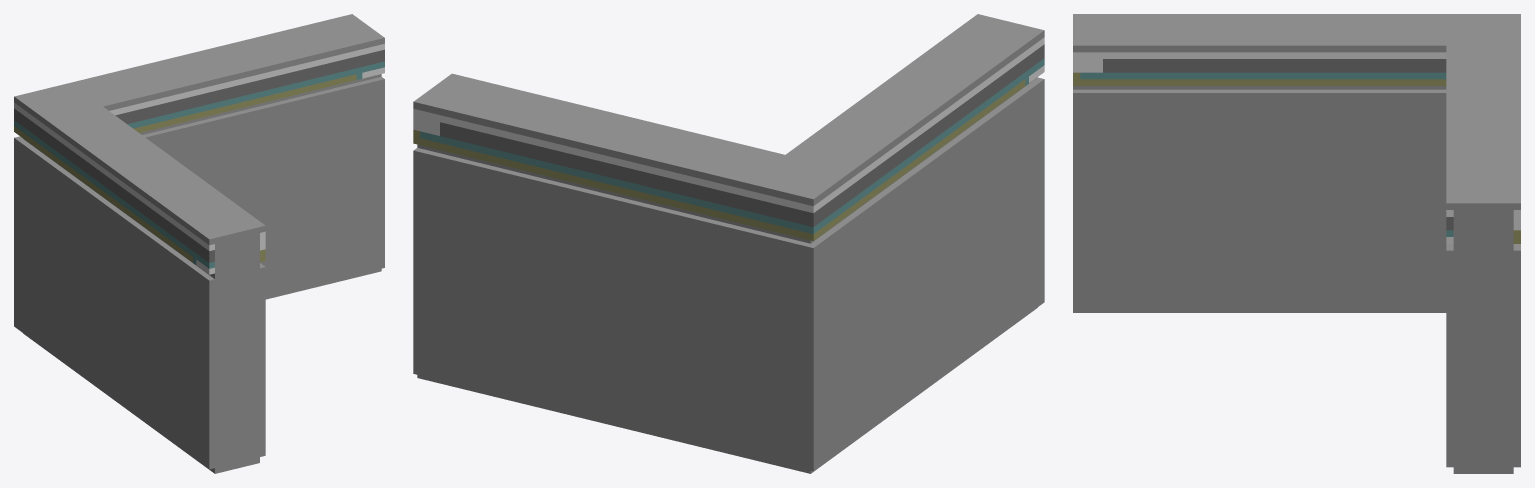
Rendered from Conference Room Corner.obj.
The picture shows the model from 3 angles, left to right: view 1: azimuth 30°, elevation 25°; view 2: azimuth 150°, elevation 25°; view 3: azimuth 270°, elevation 25°; orthographic projection. The views are drawn at different scales.
Size of the model in its own units: 60 by 40 by 60.
1 material, 1 textured.
